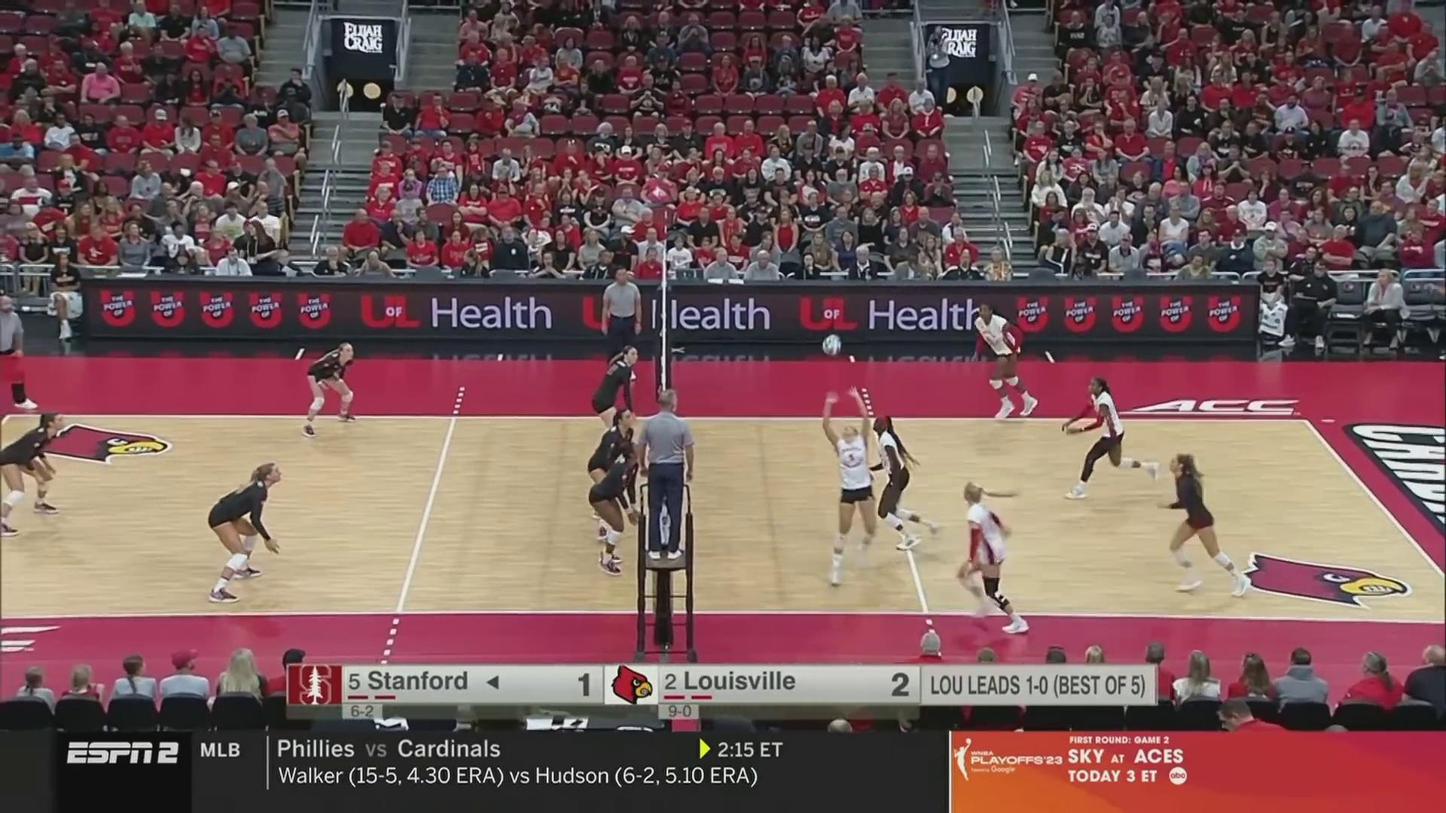player: (818, 390, 877, 585), (1168, 455, 1249, 594), (210, 466, 291, 604), (1065, 382, 1159, 499), (965, 303, 1050, 424), (952, 485, 1021, 633), (872, 416, 939, 548), (1, 413, 73, 534), (589, 401, 644, 543), (583, 444, 640, 575), (593, 346, 648, 464), (298, 341, 362, 430)
refree: (635, 391, 697, 558), (597, 264, 643, 385), (0, 291, 35, 410)
